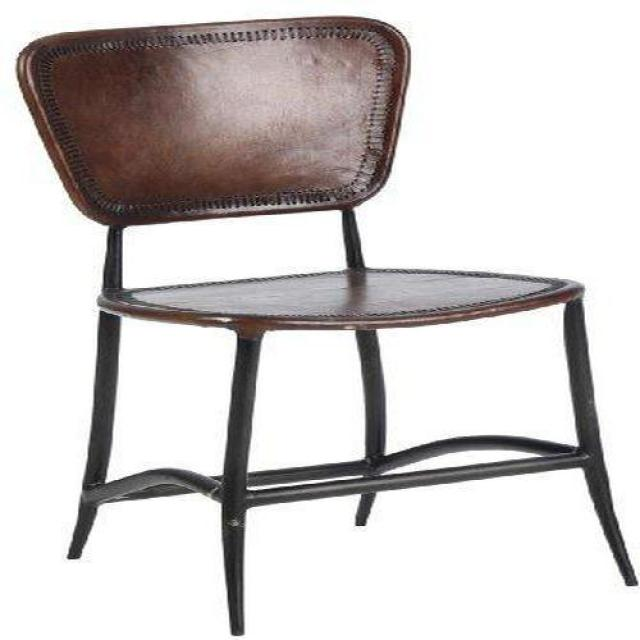chair: (19, 18, 632, 640)
